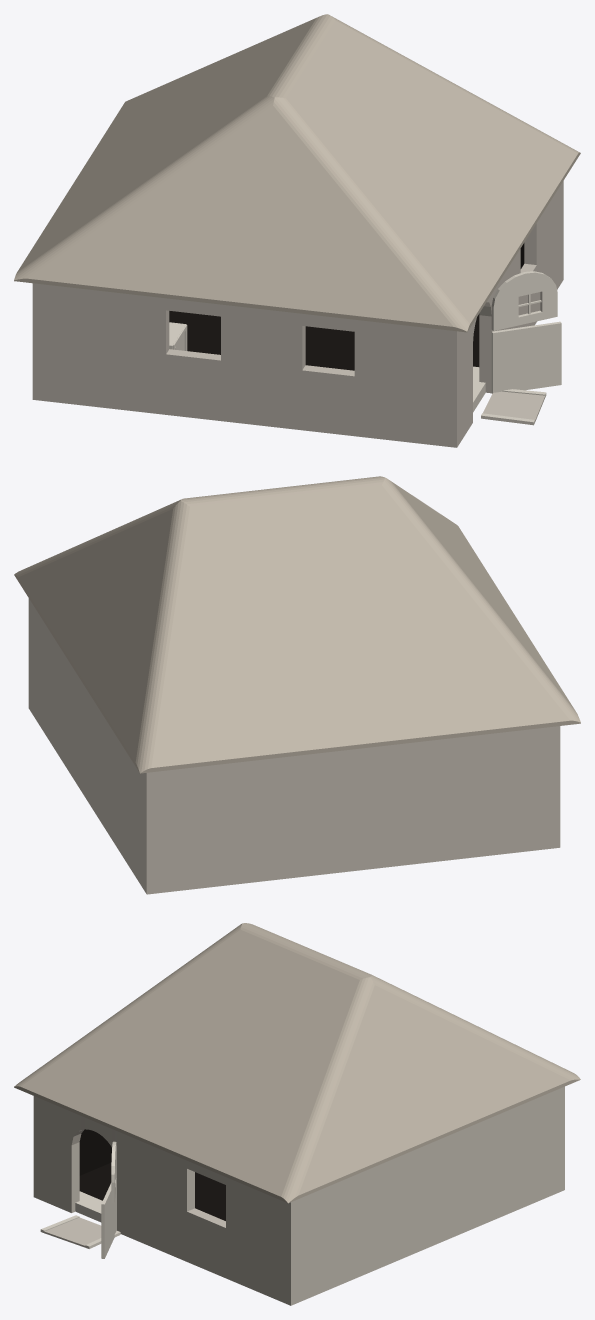
Rendered from pepins-house_clay.glb.
3 renders of one model, top to bottom at view 1: azimuth 30°, elevation 25°; view 2: azimuth 150°, elevation 25°; view 3: azimuth 270°, elevation 25°, orthographic. The views are drawn at different scales.
Parts seen in each view (by area): view 1: roofs, walls, frames, openings; view 2: roofs, walls; view 3: roofs, walls, openings, frames.
Boxes of the visible parts, left/top/right/bottom form: roofs: left=14, top=14, right=580, bottom=332; walls: left=32, top=181, right=563, bottom=447; frames: left=169, top=271, right=561, bottom=425; openings: left=169, top=243, right=524, bottom=370; roofs: left=14, top=476, right=580, bottom=773; walls: left=28, top=598, right=560, bottom=894; roofs: left=14, top=923, right=580, bottom=1203; walls: left=33, top=1086, right=564, bottom=1305; openings: left=79, top=1129, right=225, bottom=1220; frames: left=40, top=1141, right=120, bottom=1258.
Bounding box in the file's own units: 9.52 × 4.57 × 9.52.
